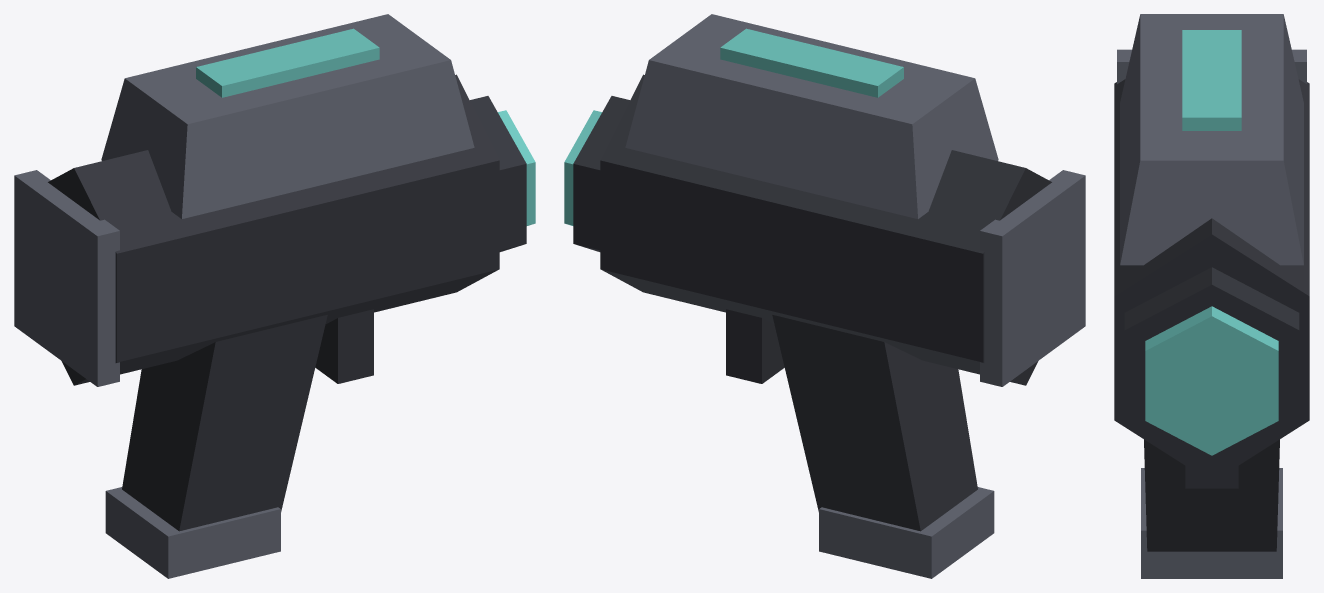
File: survey-scanner-e63ec7.glb
The picture shows the model from 3 angles, left to right: view 1: azimuth 30°, elevation 25°; view 2: azimuth 150°, elevation 25°; view 3: azimuth 270°, elevation 25°; orthographic projection. The views are drawn at different scales.
Size of the model in its own units: 0.2 by 0.196 by 0.0659.
